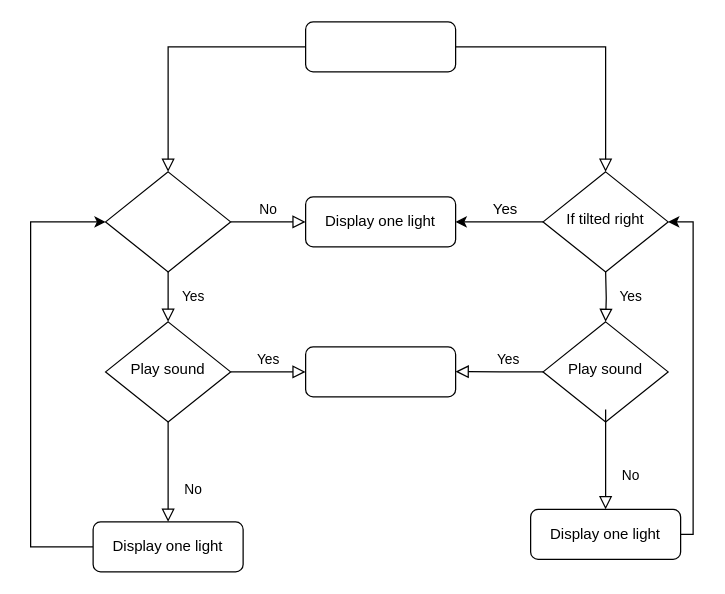
This 725x594 diagram has some shape labels left out. The box of each missing label's shape, as (x1, y1, x2, y2) in pixels:
Display more lights: (304, 346, 456, 397)
If tilted left: (104, 171, 231, 272)
Start: (304, 21, 456, 72)
